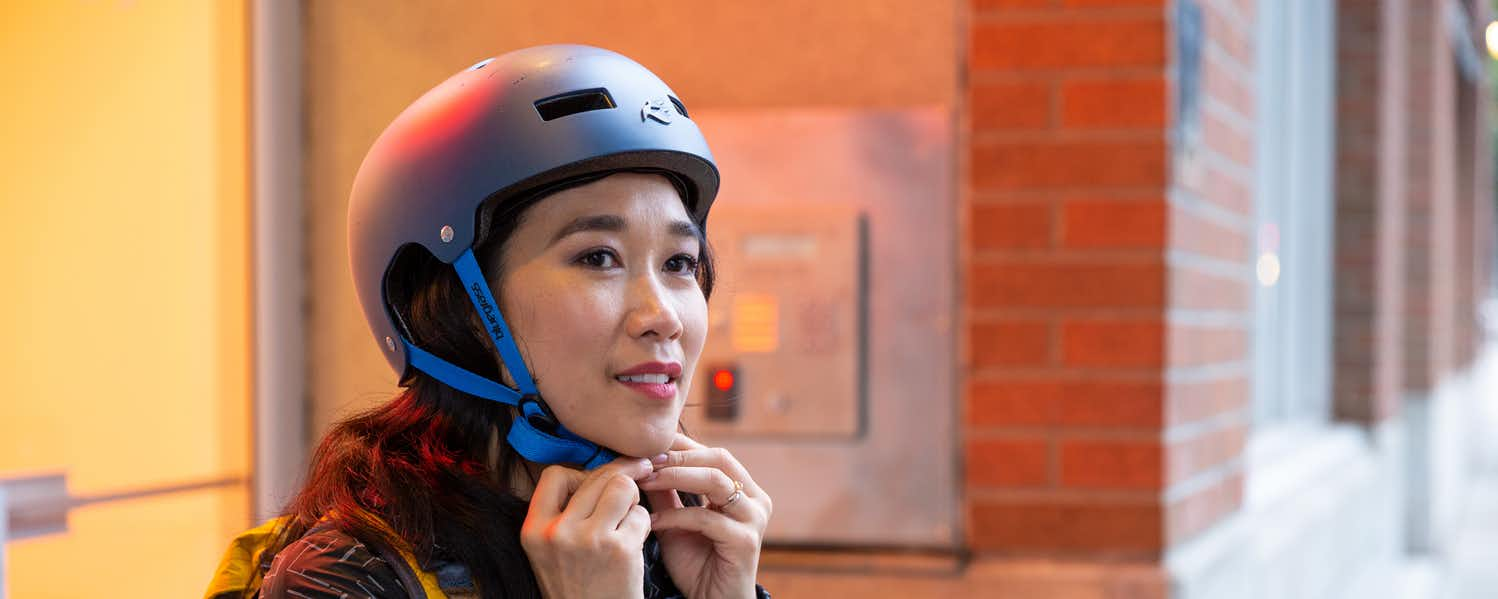helmet: (347, 43, 721, 459)
